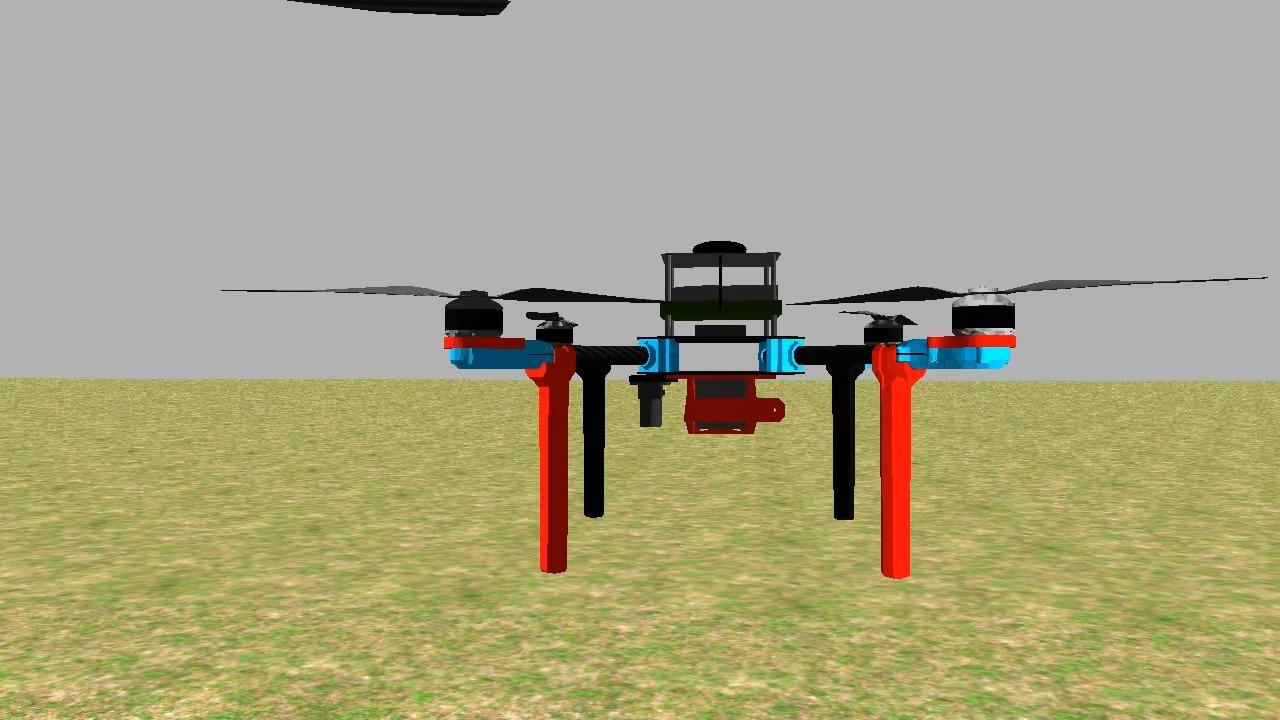UAV: (429, 221, 1024, 591)
